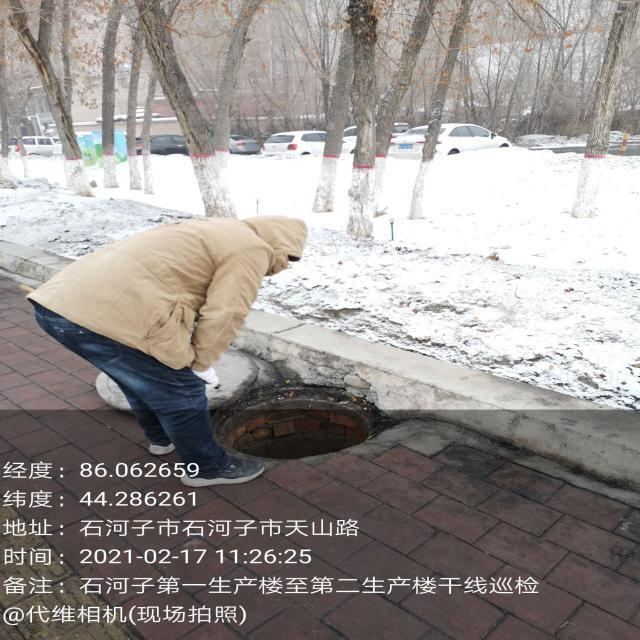manhole: (215, 379, 389, 458)
